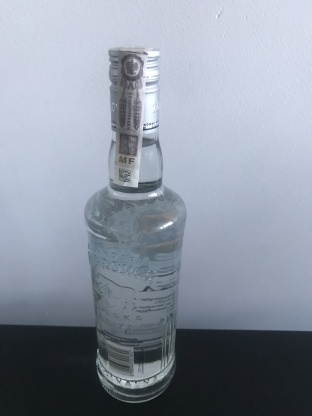nakretka: (106, 43, 162, 137)
